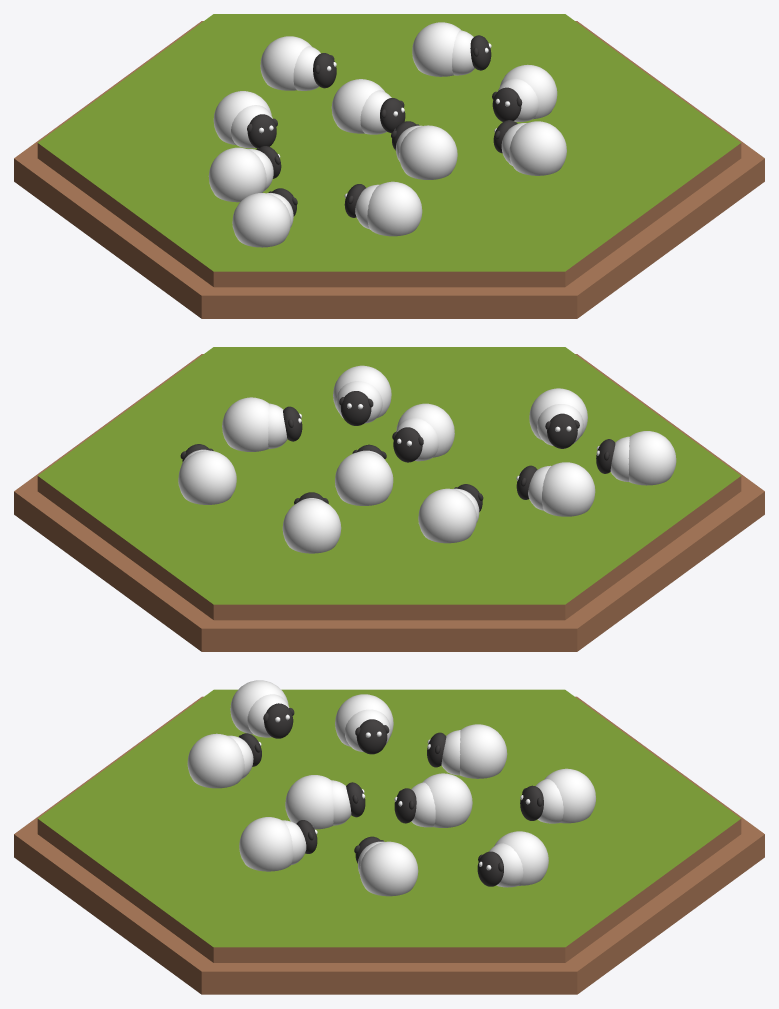
Rendered from HexSheep.glb.
The picture shows the model from 3 angles, top to bottom: view 1: azimuth 30°, elevation 25°; view 2: azimuth 150°, elevation 25°; view 3: azimuth 270°, elevation 25°; orthographic projection.
Parts seen in each view (by area): view 1: Sheep; view 2: Sheep; view 3: Sheep.
Boxes of the visible parts, bbox=[...] form: Sheep: bbox=[14, 14, 764, 318]; Sheep: bbox=[14, 347, 764, 651]; Sheep: bbox=[14, 680, 764, 994].
Bounding box in the file's own units: 6.93 × 0.9458 × 8.
